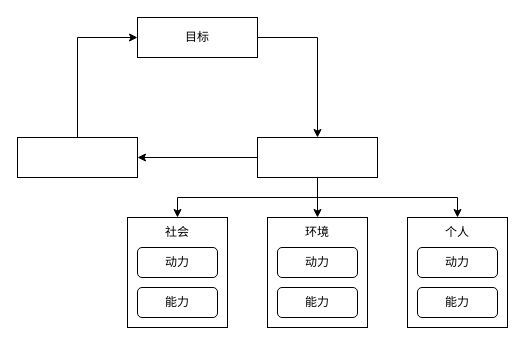
Image size: 525x345. Some labels were removed from this diagram. Each missing label, with the box of its shape:
关键行为: (256, 136, 378, 178)
度量: (16, 136, 138, 178)
